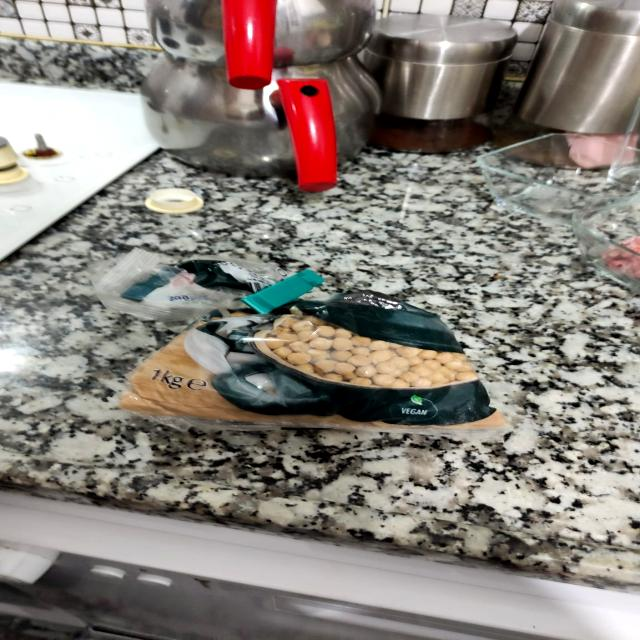chickpeas: (113, 274, 518, 430)
